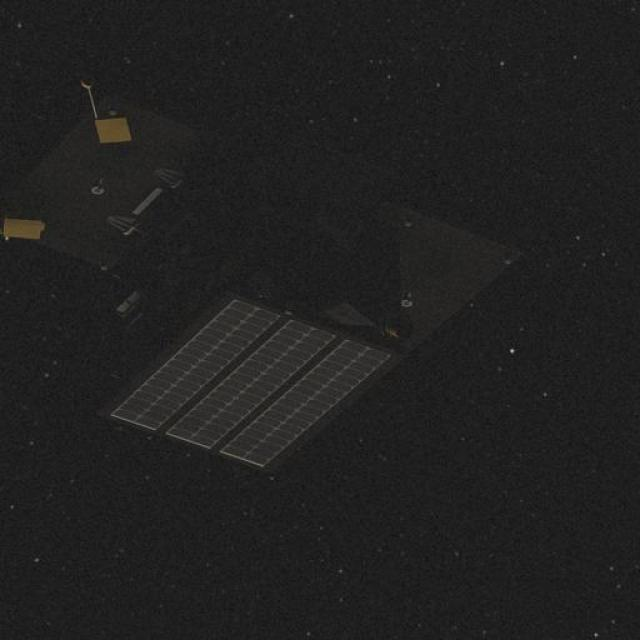proba_2: (6, 120, 530, 430)
